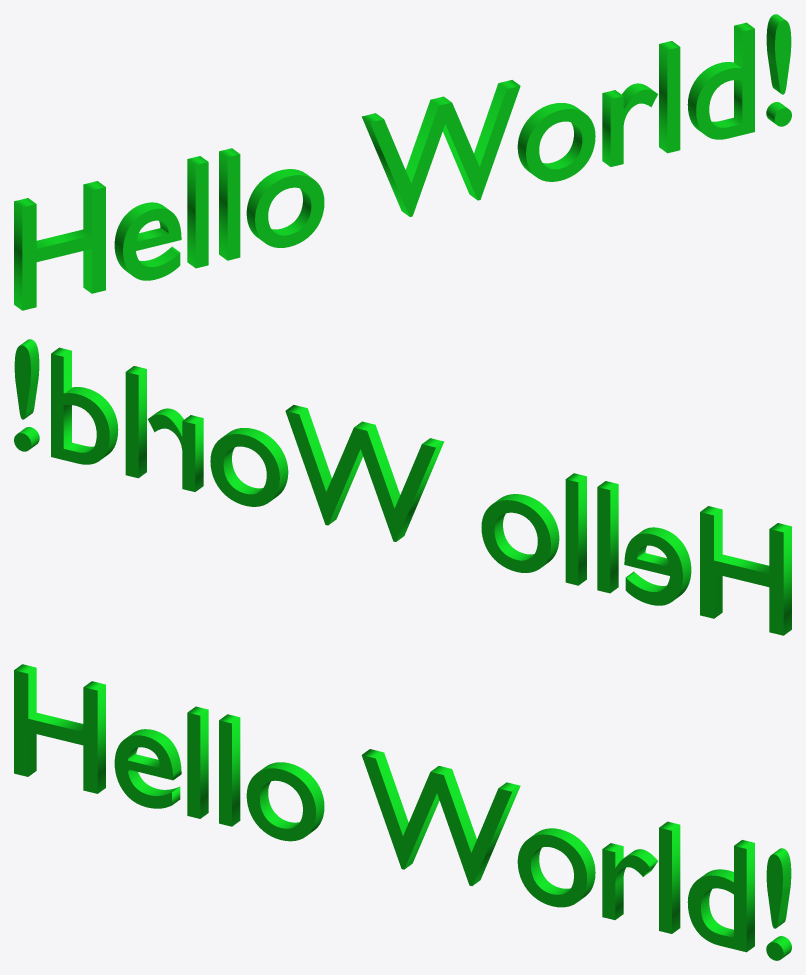
Rendered from helloworldtext.glb.
3 views of the same model, one above another, from view 1: azimuth 30°, elevation 25°; view 2: azimuth 150°, elevation 25°; view 3: azimuth 330°, elevation 25° (orthographic).
Parts seen in each view (by area): view 1: Text; view 2: Text; view 3: Text.
Boxes of the visible parts, <box> form: Text: <box>14,14,791,310</box>; Text: <box>14,339,791,635</box>; Text: <box>14,664,791,960</box>.
Size of the model in its own units: 5.32 by 0.7 by 0.1.
